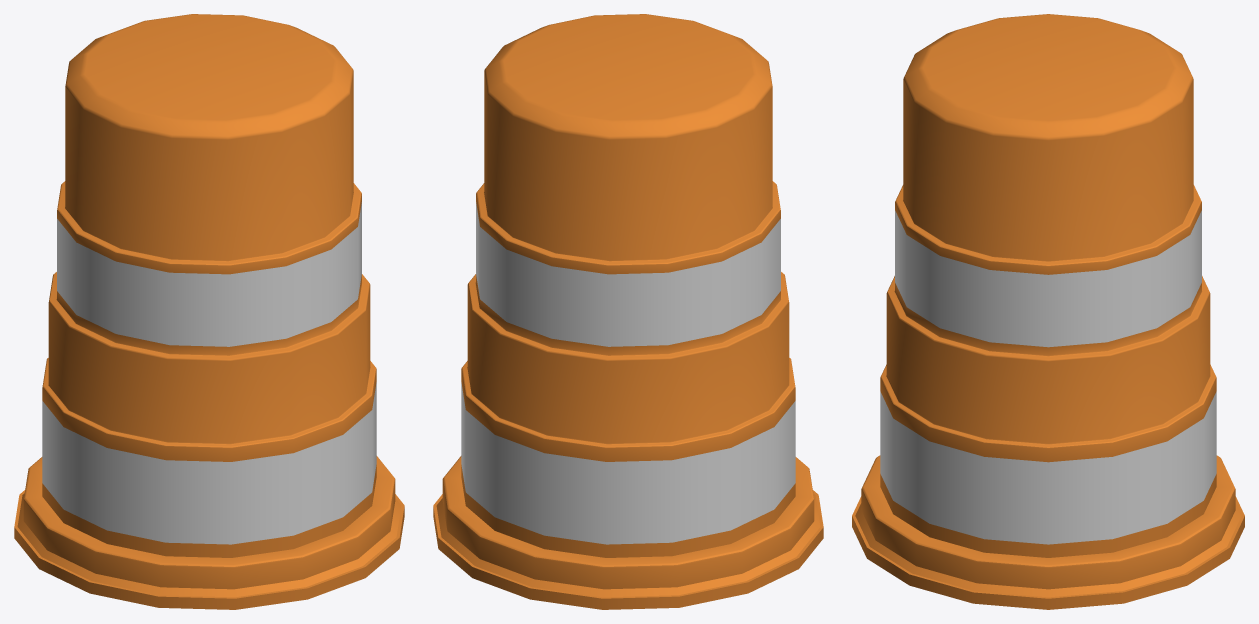
Rendered from Barrel.fbx.
3 views of the same model, side by side, from view 1: azimuth 30°, elevation 25°; view 2: azimuth 150°, elevation 25°; view 3: azimuth 270°, elevation 25° (orthographic).
Parts seen in each view (by area): view 1: Cylinder; view 2: Cylinder; view 3: Cylinder.
Part boxes in pixels (box(x1,y1,x2,y2)): Cylinder: box(14, 14, 404, 609); Cylinder: box(433, 14, 823, 609); Cylinder: box(852, 14, 1244, 609).
Size of the model in its own units: 234 by 301 by 234.
